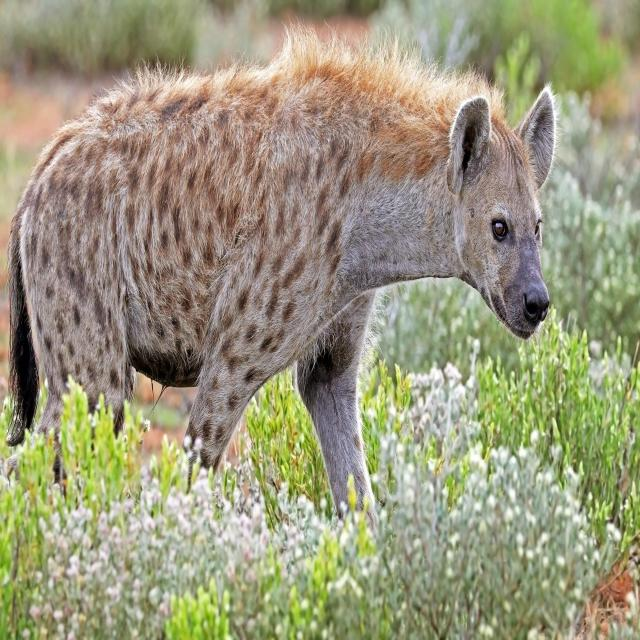Hyena: (0, 47, 569, 519)
